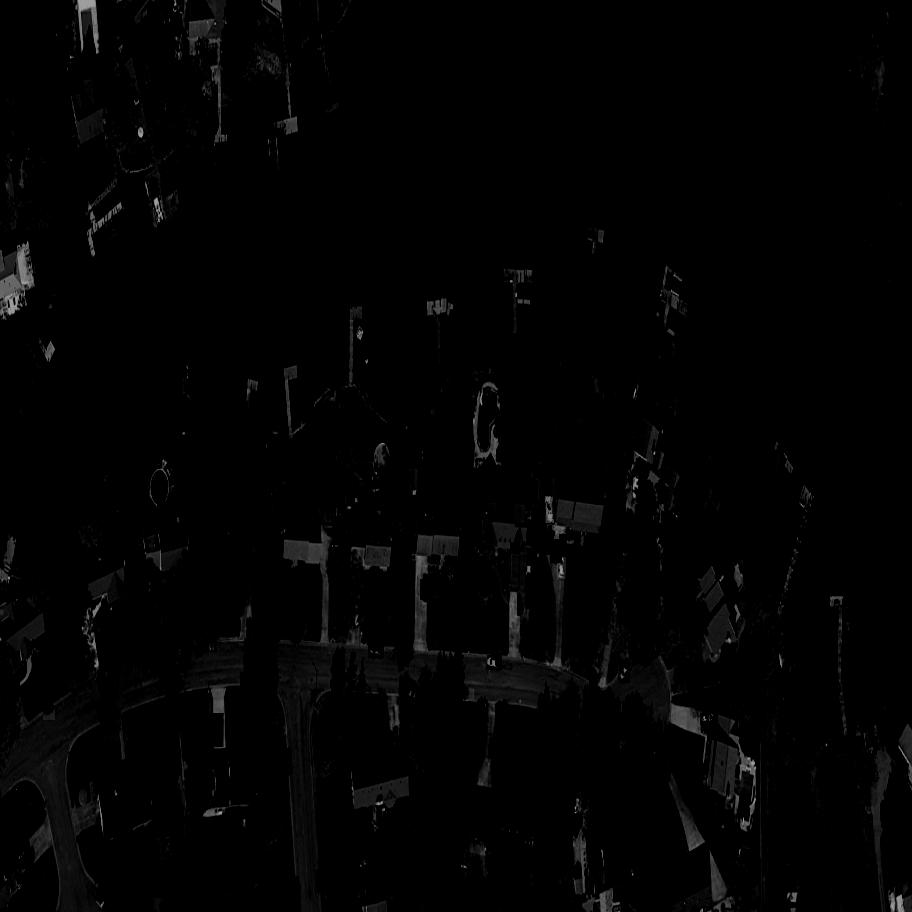ship: (842, 598, 857, 640), (153, 195, 166, 227), (545, 495, 555, 524), (634, 469, 640, 503)
small-vehicle: (209, 713, 225, 748), (18, 852, 39, 874), (14, 842, 35, 863), (617, 660, 632, 683), (550, 538, 563, 564), (486, 655, 504, 671), (545, 530, 556, 556), (400, 684, 420, 698), (40, 707, 59, 721), (557, 557, 568, 580), (368, 646, 386, 660), (267, 638, 282, 654), (240, 673, 256, 688), (171, 644, 186, 658), (559, 534, 568, 555), (525, 577, 531, 608), (421, 579, 429, 601), (285, 753, 293, 773), (315, 874, 322, 893), (354, 604, 360, 626), (701, 714, 711, 725), (394, 731, 398, 747)
